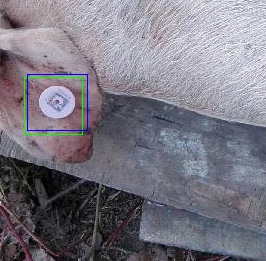text: (24, 77, 82, 134)
